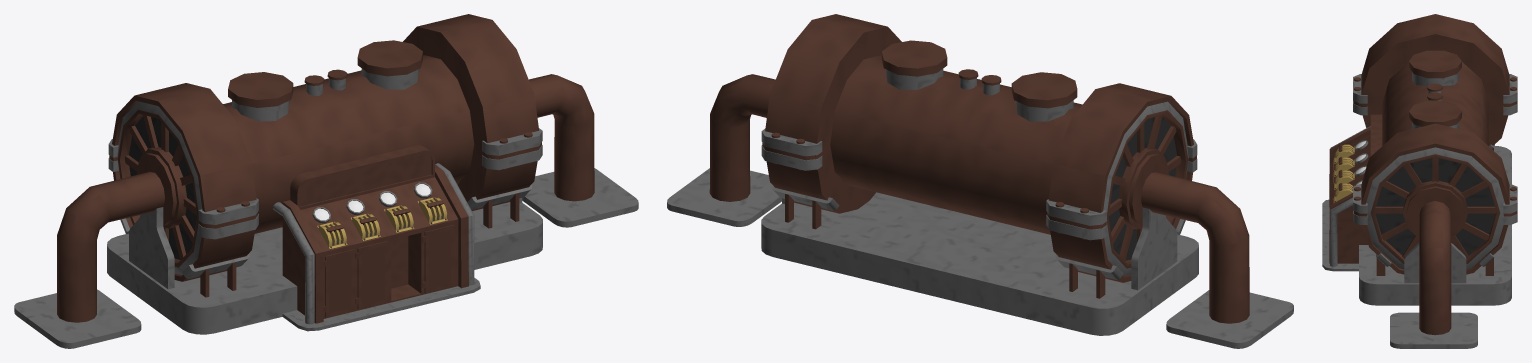
File: LeverMachine.fbx
3 renders of one model, left to right at view 1: azimuth 30°, elevation 25°; view 2: azimuth 150°, elevation 25°; view 3: azimuth 270°, elevation 25°, orthographic. The views are drawn at different scales.
Parts seen in each view (by area): view 1: Cube.062; view 2: Cube.062; view 3: Cube.062.
Part boxes in pixels (box(x1,y1,x2,y2)): Cube.062: box(14, 14, 638, 348); Cube.062: box(667, 14, 1293, 348); Cube.062: box(1322, 14, 1517, 348).
Bounding box in the file's own units: 1185 × 388 × 436.
